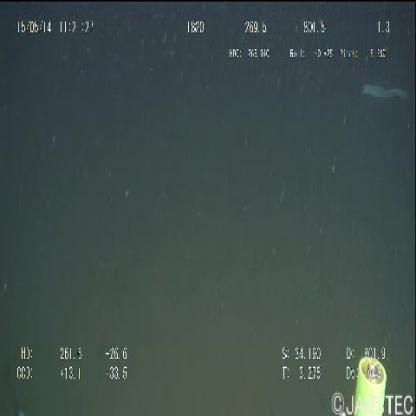Rác: (360, 82, 411, 104)
